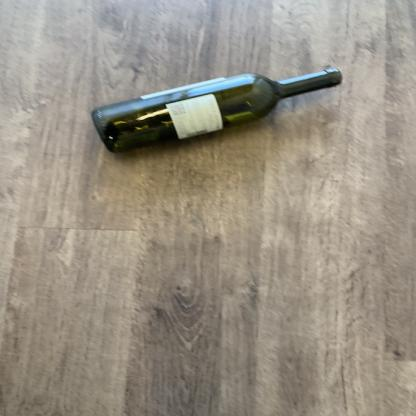trash: (94, 65, 351, 157)
